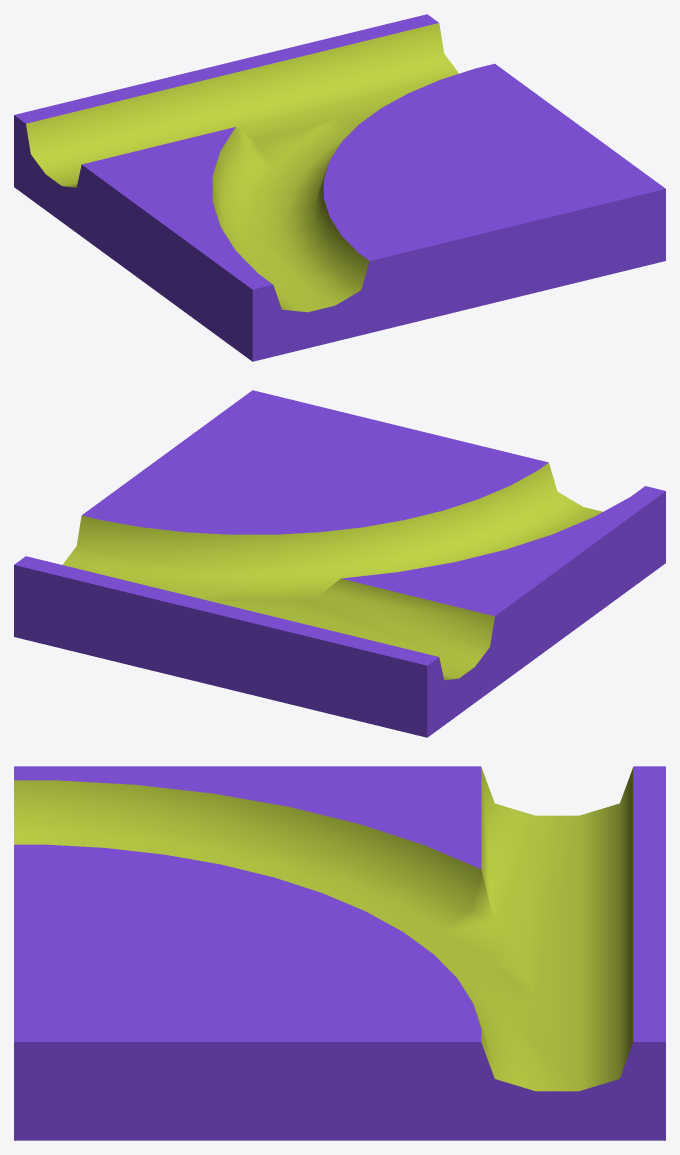
The model's file is split_large_solid_left-col.dae.
3 views of the same model, one above another, from view 1: azimuth 30°, elevation 25°; view 2: azimuth 150°, elevation 25°; view 3: azimuth 270°, elevation 25° (orthographic). The views are drawn at different scales.
Parts seen in each view (by area): view 1: split_large_solid_left-col; view 2: split_large_solid_left-col; view 3: split_large_solid_left-col.
Boxes of the visible parts, x1,y1,x2,y2 form: split_large_solid_left-col: (14, 14, 665, 361); split_large_solid_left-col: (14, 390, 665, 737); split_large_solid_left-col: (14, 766, 665, 1140).
Size of the model in its own units: 3 by 3 by 0.5.
